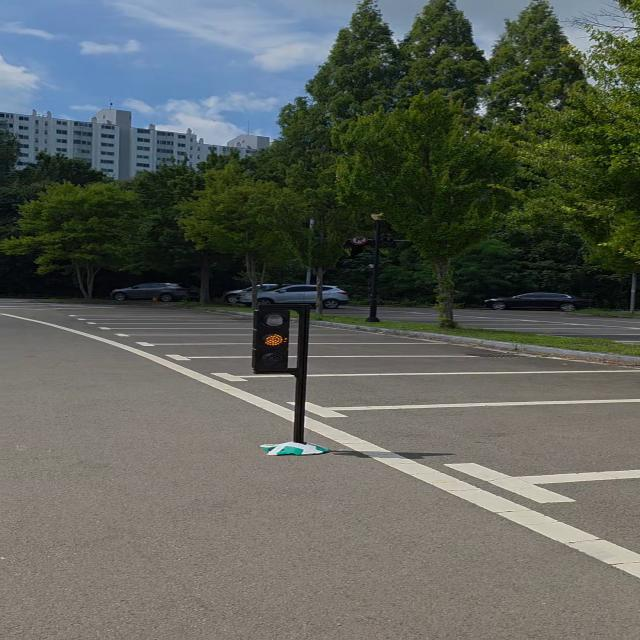yellow: (253, 303, 292, 375)
